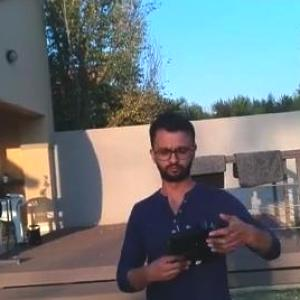follow: (110, 106, 284, 299)
